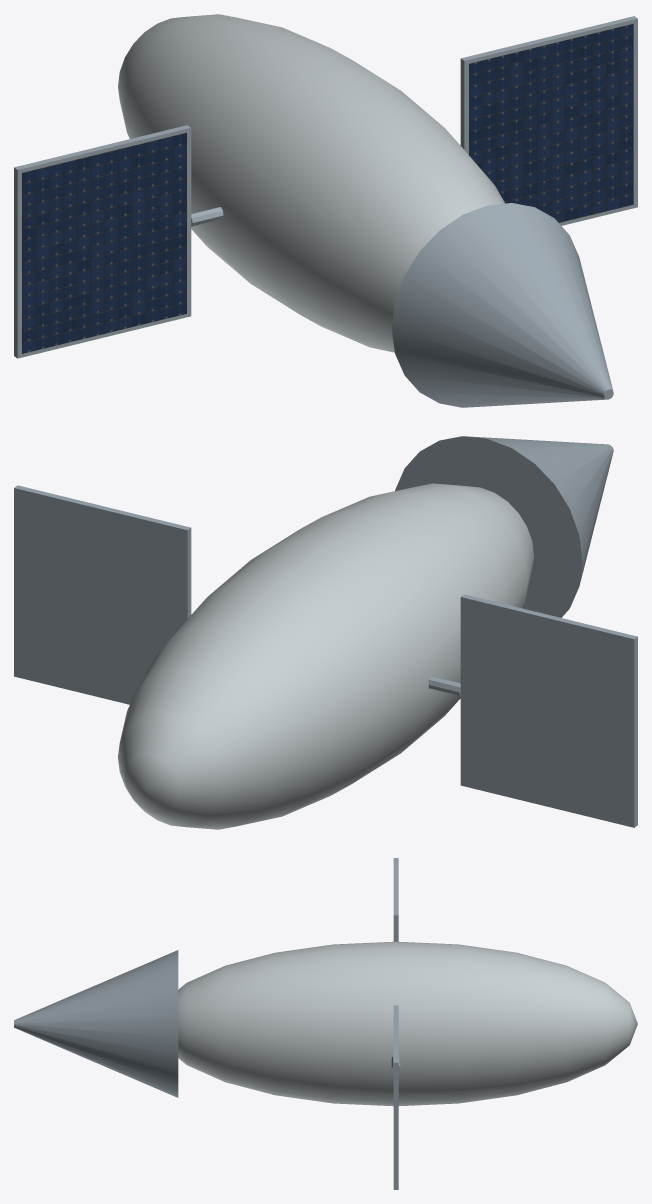
The model's file is ref-7k-tgm1-26067.glb.
The picture shows the model from 3 angles, top to bottom: view 1: azimuth 30°, elevation 25°; view 2: azimuth 150°, elevation 25°; view 3: azimuth 270°, elevation 25°; orthographic projection. The views are drawn at different scales.
Parts seen in each view (by area): view 1: Spacecraft body, Photovoltaic laminates (×2), Conical section, Array frame (×2); view 2: Spacecraft body, Array frame (×2), Conical section; view 3: Spacecraft body, Conical section, Array frame (×2).
Boxes of the visible parts, x1,y1,x2,y2 form: Spacecraft body: (118,14,504,352); Photovoltaic laminates (×2): (22,23,633,353); Conical section: (391,203,613,407); Array frame (×2): (14,16,637,358); Spacecraft body: (118,483,533,829); Array frame (×2): (14,485,637,827); Conical section: (395,436,613,617); Spacecraft body: (178,941,637,1106); Conical section: (14,950,178,1097); Array frame (×2): (393,858,398,1189).
Size of the model in its own units: 7.9 by 2.7 by 10.19.
Materials: 3 (1 with a texture image).
